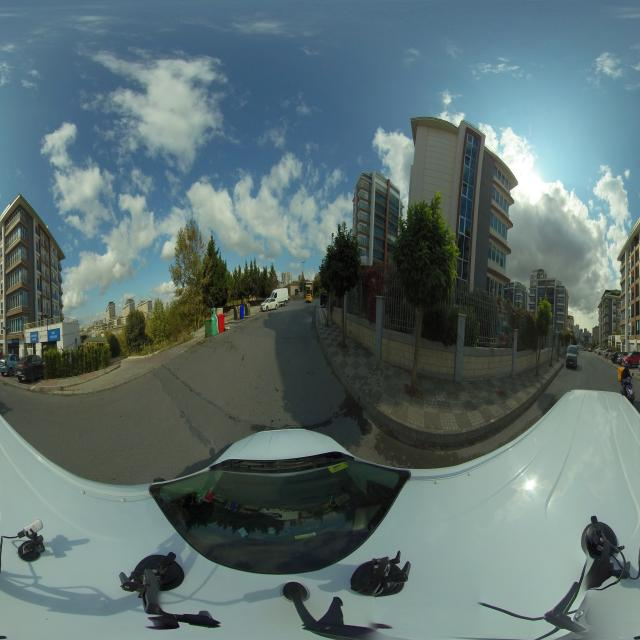SignStore: (39, 328, 60, 342), (24, 331, 38, 343), (7, 339, 19, 343)
